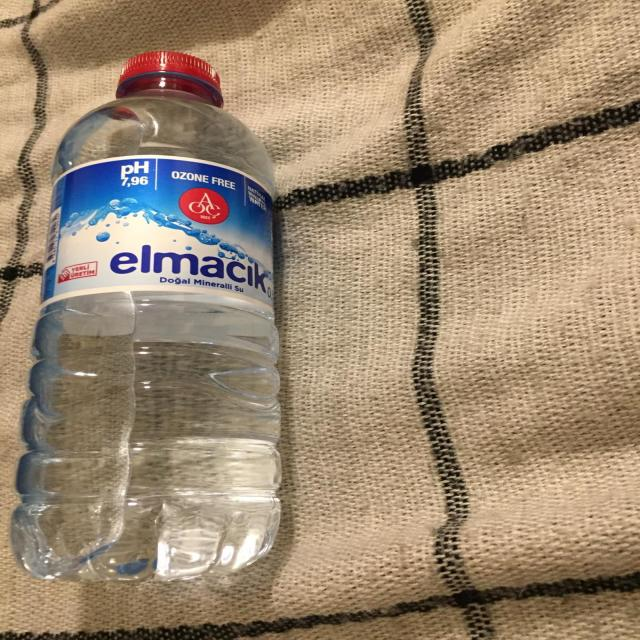anorganik: (35, 41, 301, 591)
